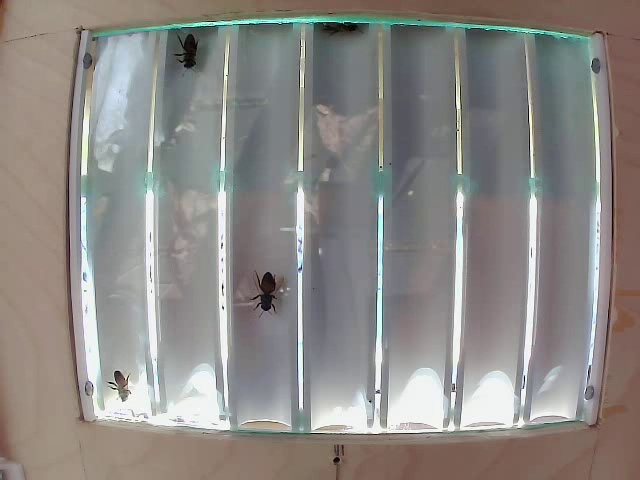bee: (251, 258, 291, 321), (319, 13, 367, 48), (174, 31, 209, 78)
